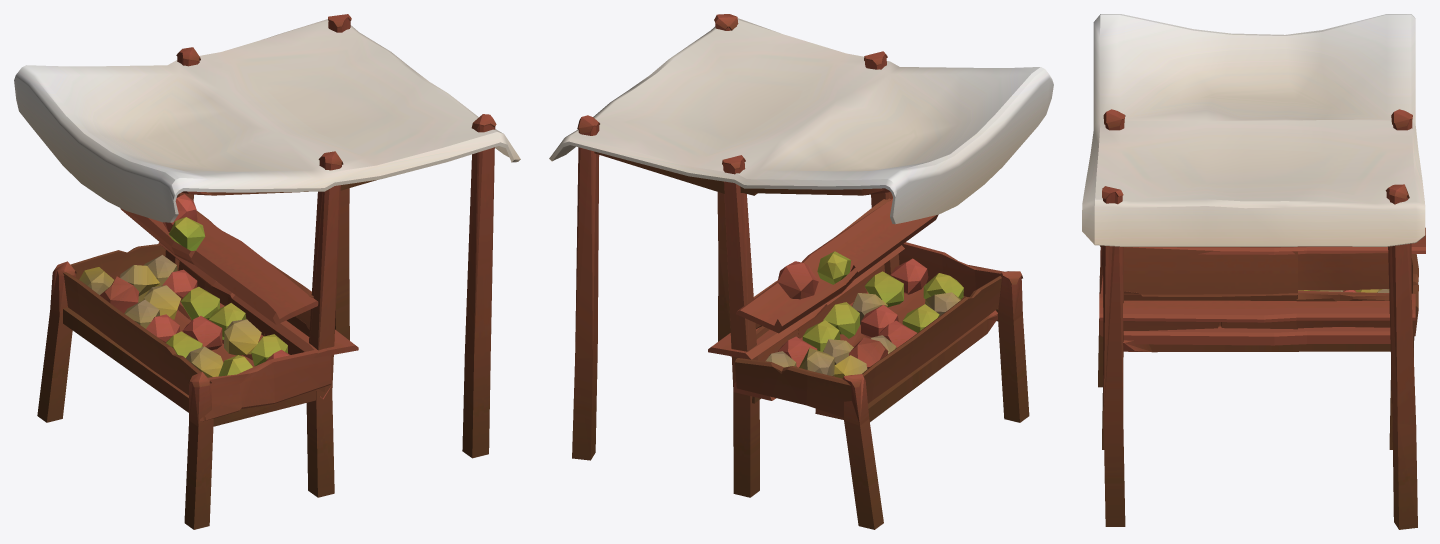
3 renders of one model, left to right at view 1: azimuth 30°, elevation 25°; view 2: azimuth 150°, elevation 25°; view 3: azimuth 270°, elevation 25°, orthographic.
Visible parts, largest first — view 1: MarketStand; view 2: MarketStand; view 3: MarketStand.
Boxes of the visible parts, left/top/right/bottom form: MarketStand: left=14, top=14, right=520, bottom=529; MarketStand: left=549, top=14, right=1053, bottom=529; MarketStand: left=1082, top=14, right=1425, bottom=529.
Bounding box in the file's own units: 120 × 117 × 101.
Materials: 1 (1 with a texture image).
